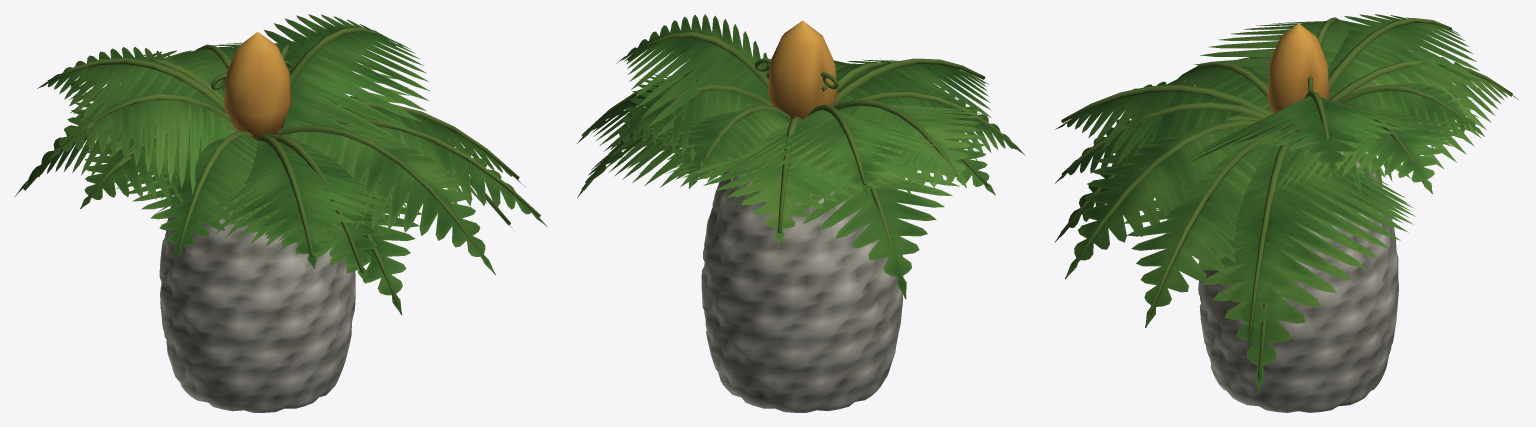
File: PLN_Cycad_Large.fbx
3 views of the same model, side by side, from view 1: azimuth 30°, elevation 25°; view 2: azimuth 150°, elevation 25°; view 3: azimuth 270°, elevation 25° (orthographic). The views are drawn at different scales.
Visible parts, largest first — view 1: PLN_Cycad_Large; view 2: PLN_Cycad_Large; view 3: PLN_Cycad_Large.
Part boxes in pixels (x1,y1,x2,y2): PLN_Cycad_Large: [14, 14, 547, 412]; PLN_Cycad_Large: [577, 14, 1025, 412]; PLN_Cycad_Large: [1055, 14, 1519, 412].
Bounding box in the file's own units: 2.14 × 1.67 × 1.98.
